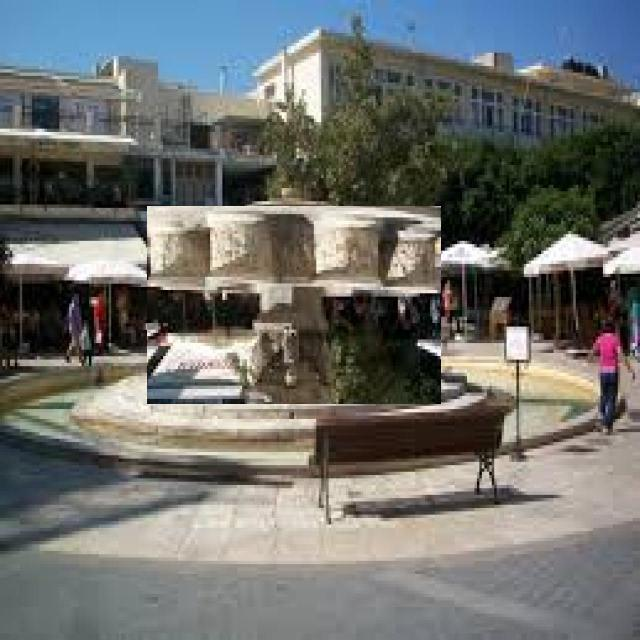Liontaria: (148, 207, 442, 405)
